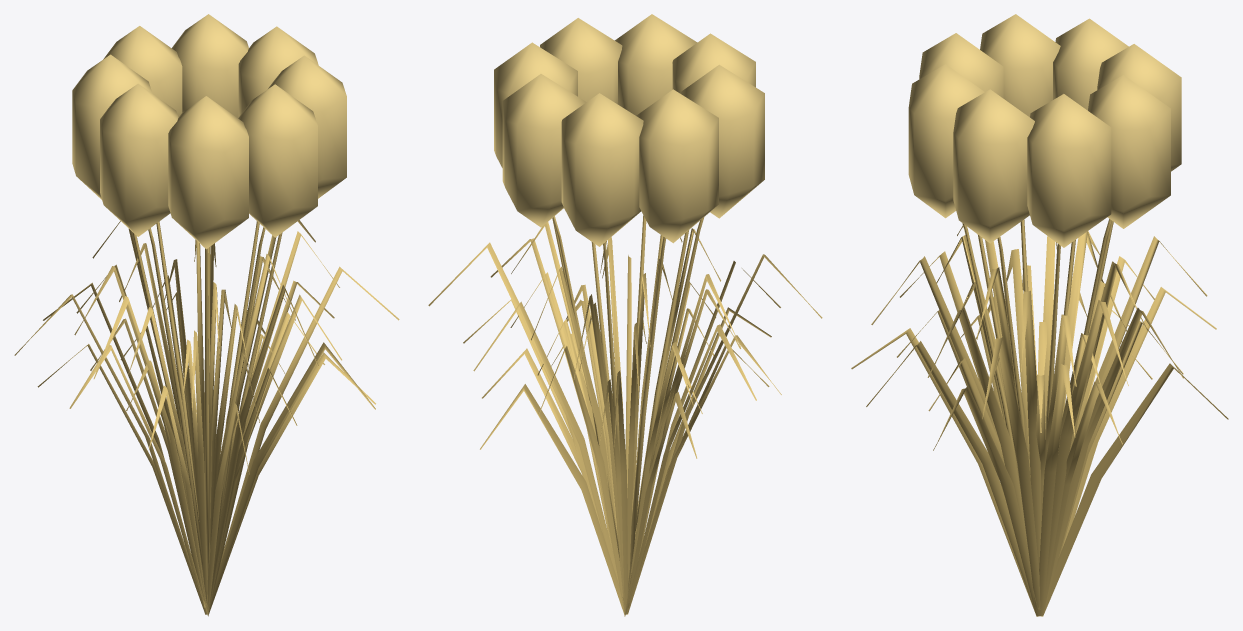
Rendered from grass_switchgrass.glb.
3 views of the same model, side by side, from view 1: azimuth 30°, elevation 25°; view 2: azimuth 150°, elevation 25°; view 3: azimuth 270°, elevation 25° (orthographic).
Visible parts, largest first — view 1: Flora_Switchgrass; view 2: Flora_Switchgrass; view 3: Flora_Switchgrass.
Part boxes in pixels (x1,y1,x2,y2): Flora_Switchgrass: [14, 14, 399, 616]; Flora_Switchgrass: [428, 14, 822, 616]; Flora_Switchgrass: [851, 14, 1228, 616].
Size of the model in its own units: 1.24 by 2.04 by 1.24.
